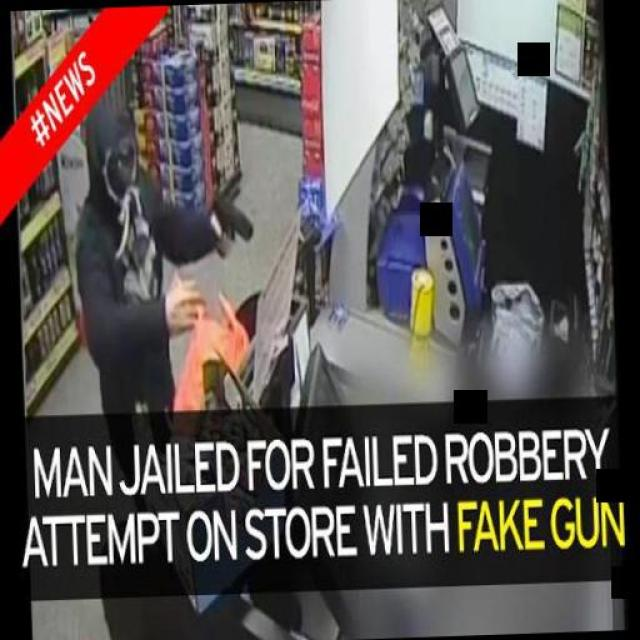gun: (205, 176, 251, 256)
